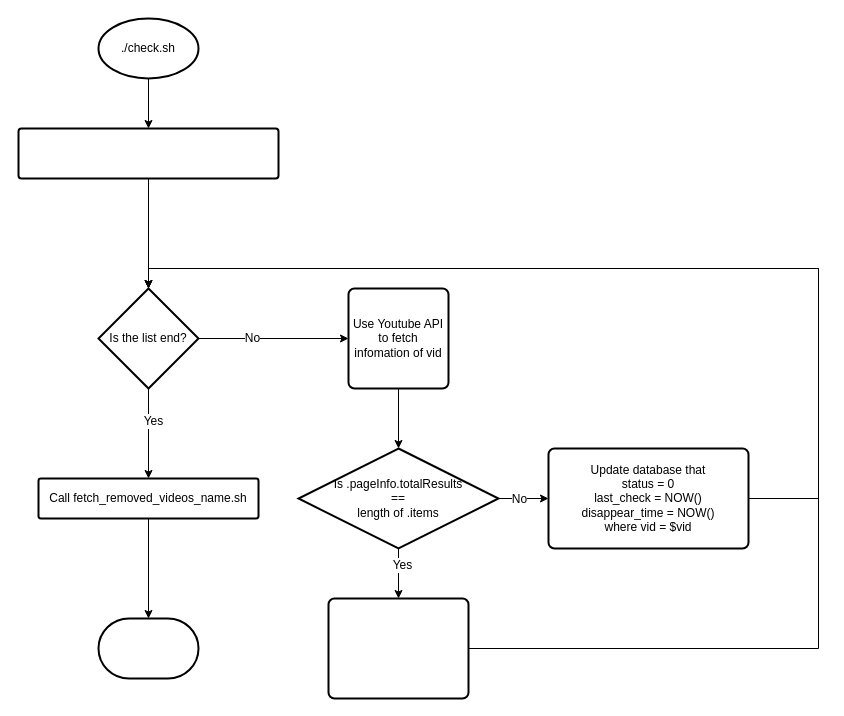
This 844x716 diagram has some shape labels left out. Here are the shapes that lost their labels. From the top down, the box of each, then its label:
(17, 127, 279, 179): Read the vid list that is exist from database
(97, 617, 199, 679): Script End
(327, 597, 469, 699): Update database that last_check = NOW() where vid = $vid
